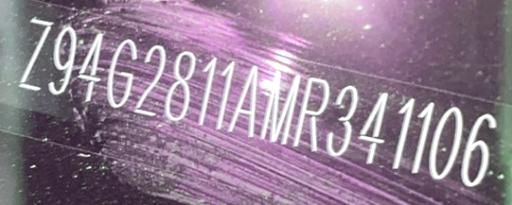letter: (258, 68, 304, 147), (459, 112, 499, 189), (291, 74, 329, 153), (17, 12, 55, 91), (427, 105, 465, 180), (324, 81, 360, 158), (356, 91, 392, 168), (131, 43, 167, 118), (225, 63, 259, 140), (162, 49, 196, 124), (104, 36, 138, 109), (46, 25, 78, 95), (388, 97, 416, 172), (76, 31, 104, 102), (192, 56, 218, 127), (411, 100, 435, 175), (214, 58, 236, 131)
